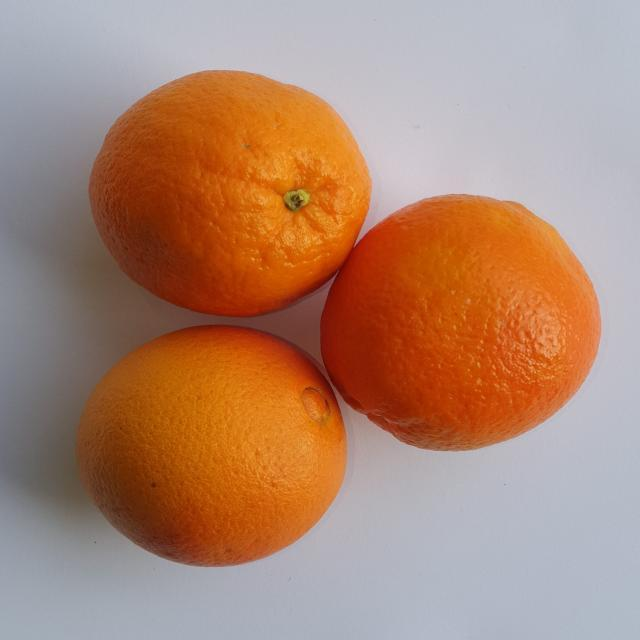Orange: (321, 188, 607, 456), (89, 69, 370, 317), (75, 326, 349, 570)
